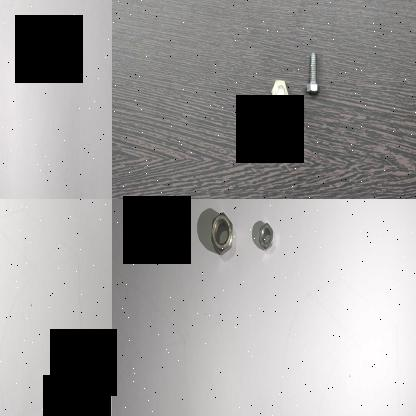Bolts: (302, 50, 322, 96), (269, 73, 291, 108)
NUTS: (208, 204, 235, 258), (256, 218, 276, 254)
